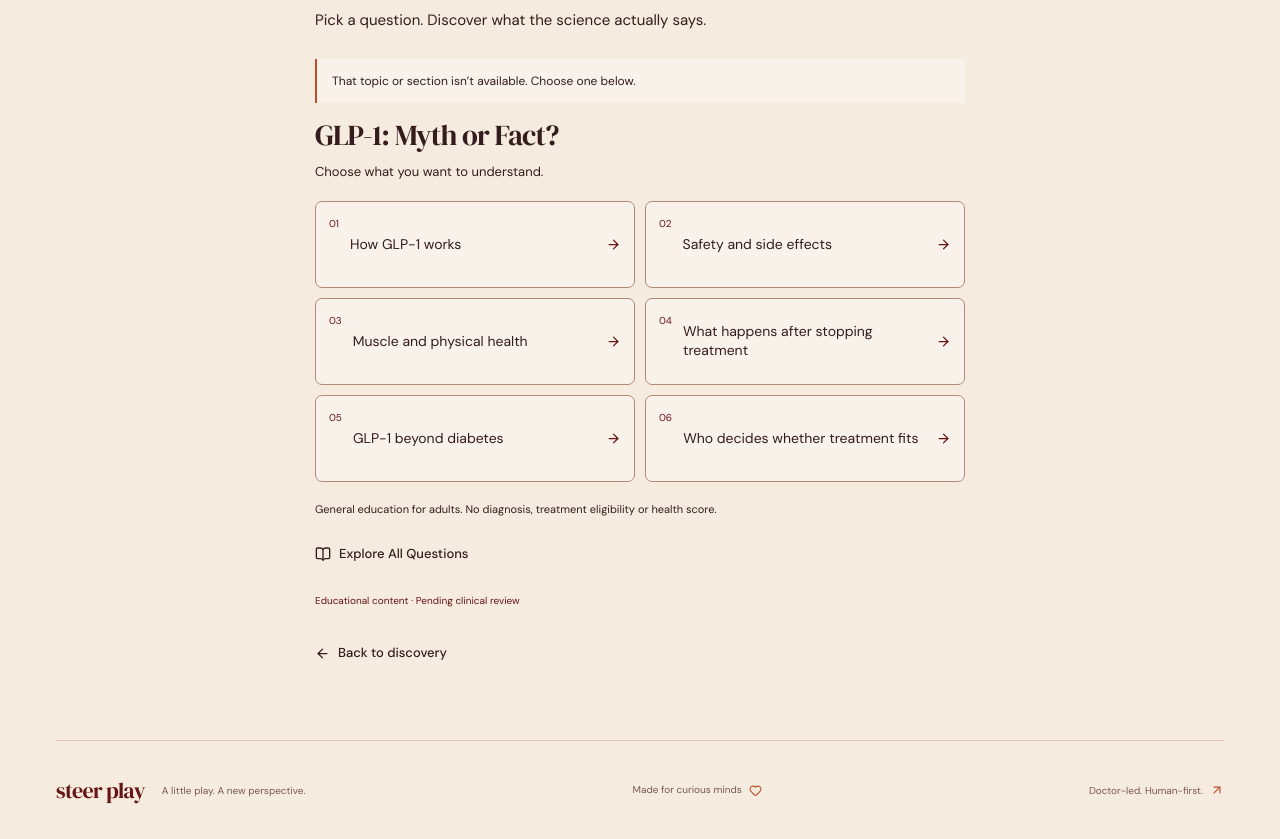
Test case: GLP-1 educational journeys › shows all six cards immediately and recovers invalid links without a health assessment
(page scrolled)
Expected: the text "That topic or section isn’t available. Choose one below." is shown, 315,59 -> 965,103
Click the link "Explore All Questions": (392, 554) 315,545 -> 468,562
(page scrolled)
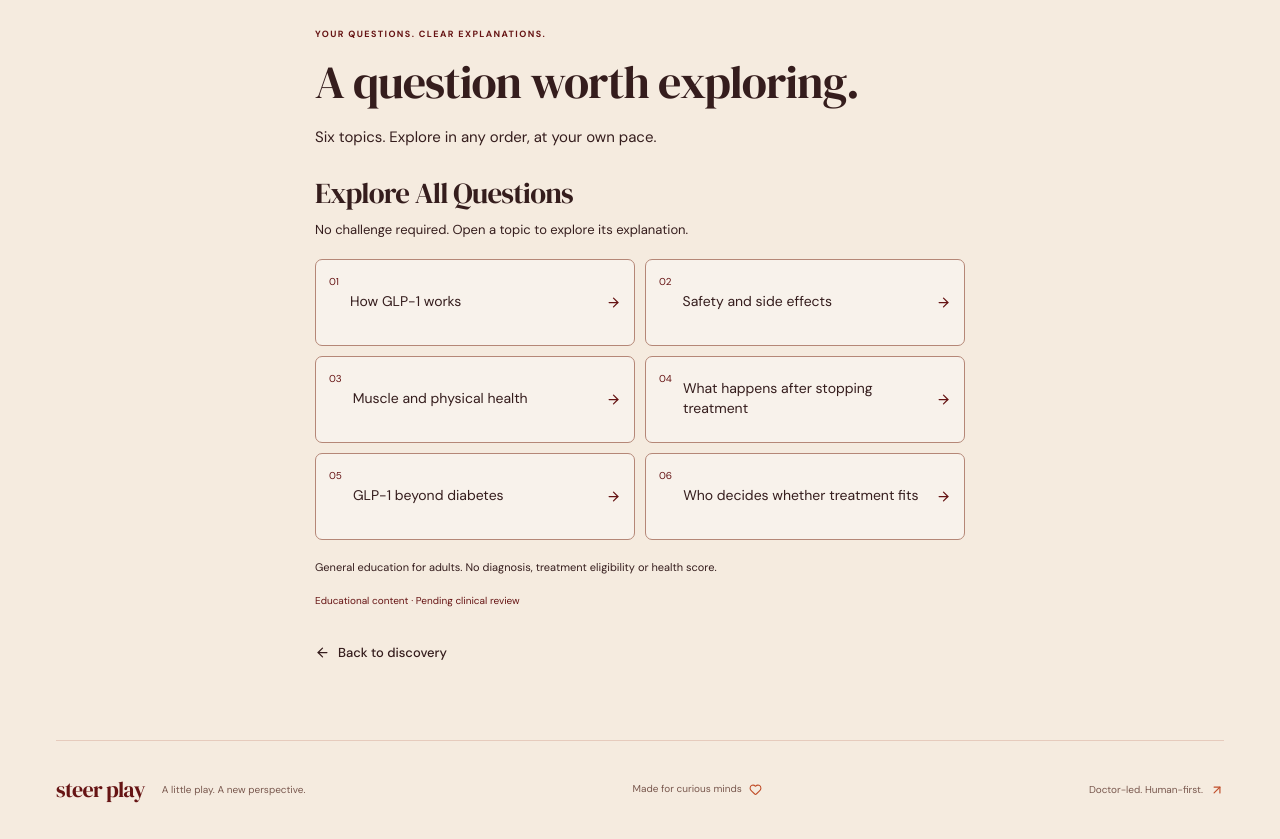
Expected: the heading "Explore All Questions" is shown, 315,173 -> 573,213
